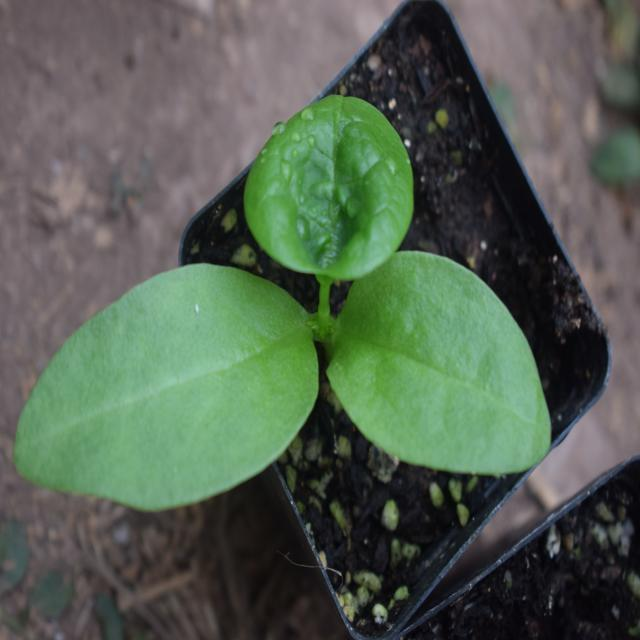Ceylon spinach: (50, 86, 544, 519)
